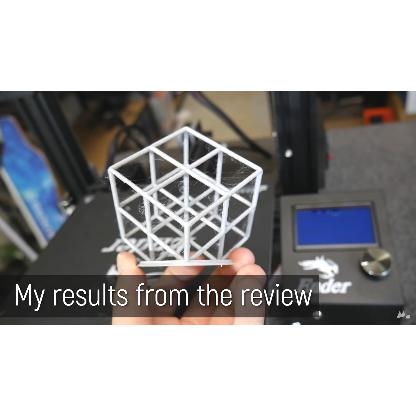fail: (226, 167, 249, 179), (176, 180, 184, 194), (136, 202, 144, 216)
